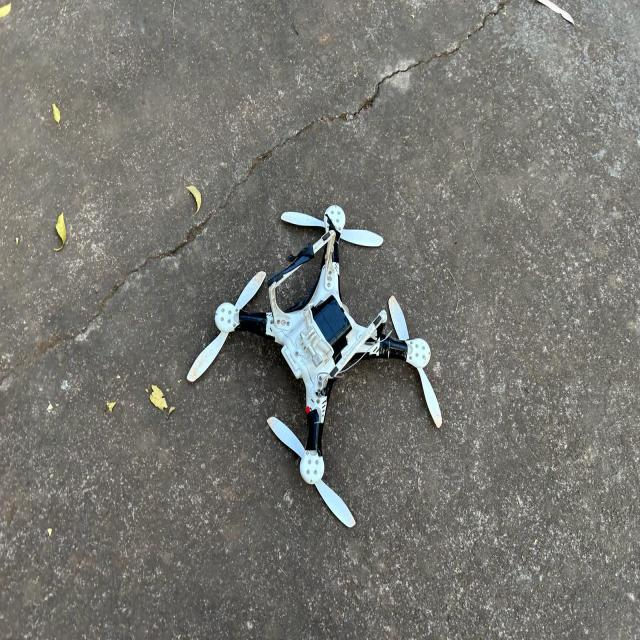drone: (180, 204, 449, 530)
